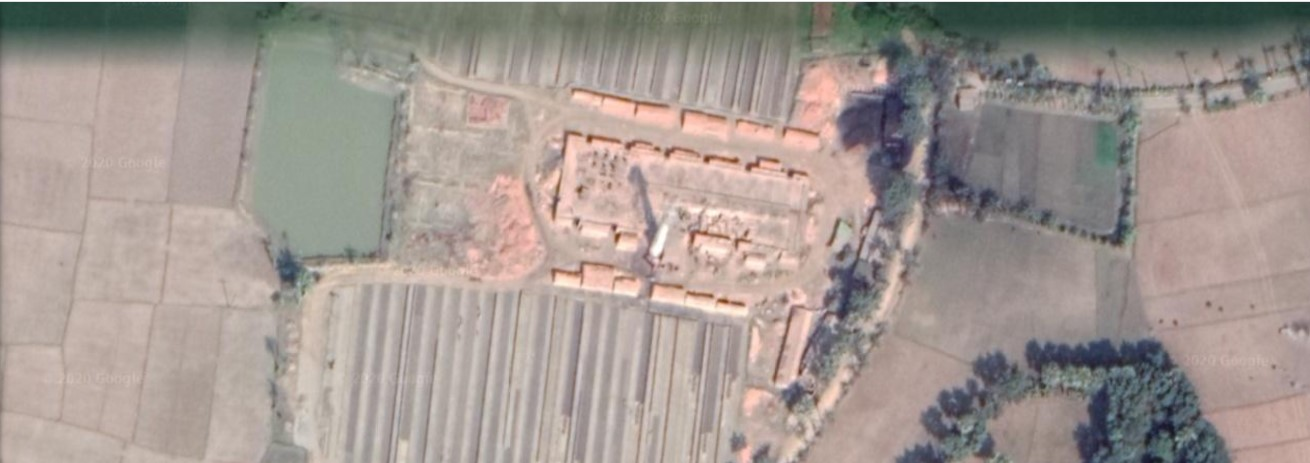kiln: (545, 133, 812, 309)
